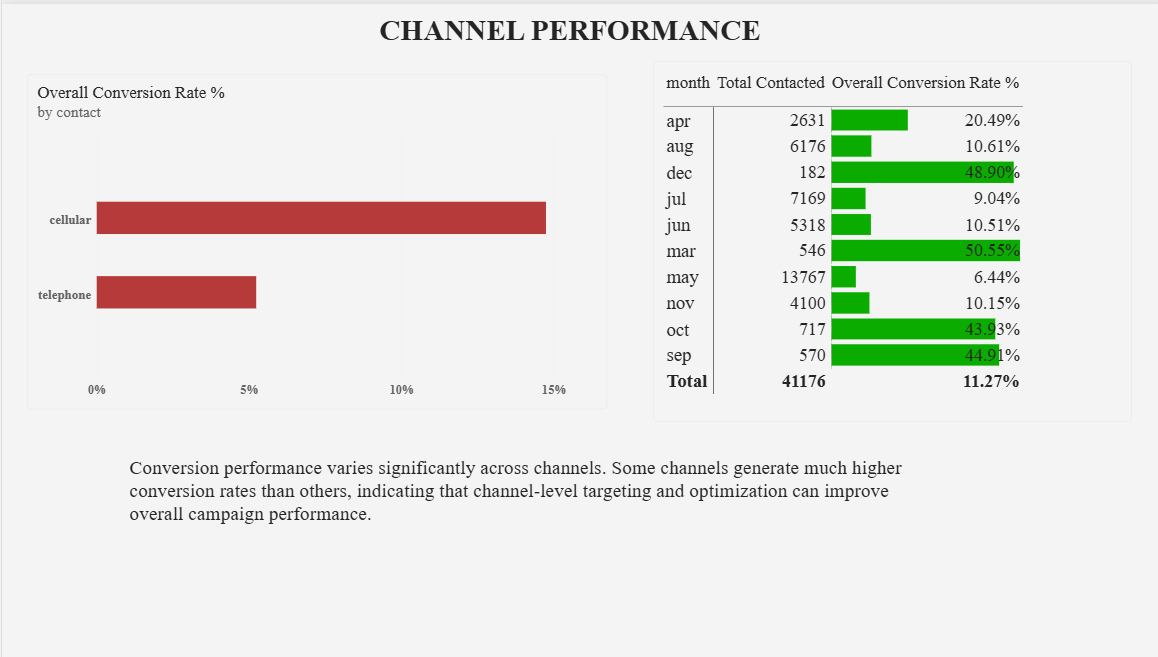

The page's visual inventory and layout, read from the dashboard file:
{"tool":"powerbi","page":{"name":"Channel Performance","canvas":[1920,1080],"ordinal":1},"visuals":[{"type":"barChart","fields":{"Category":["cleaned_bank_marketing.contact"],"Y":["channel_summary.Overall Conversion Rate %"]},"box":[41.2,115.3,955.1,551.6],"z":0},{"type":"pivotTable","fields":{"Rows":["cleaned_bank_marketing.month"],"Values":["channel_summary.Total Contacted","channel_summary.Overall Conversion Rate %"]},"box":[1072.4,94.7,788.3,592.8],"z":1000},{"type":"textbox","box":[209.9,745.1,1284.4,222.3],"z":2000},{"type":"textbox","box":[621.6,16.5,747.2,94.7],"z":3000}]}

Visuals, with their boxes in screenshot pixels (x1, y1, x2, y2), scaled from the page's 1920x1080 canvas onto the 1158x657 screenshot:
barChart - cleaned_bank_marketing.contact x channel_summary.Overall Conversion Rate %: [left=25, top=70, right=601, bottom=406]
pivotTable - cleaned_bank_marketing.month x channel_summary.Total Contacted: [left=647, top=58, right=1122, bottom=418]
textbox: [left=127, top=453, right=901, bottom=589]
textbox: [left=375, top=10, right=826, bottom=68]
